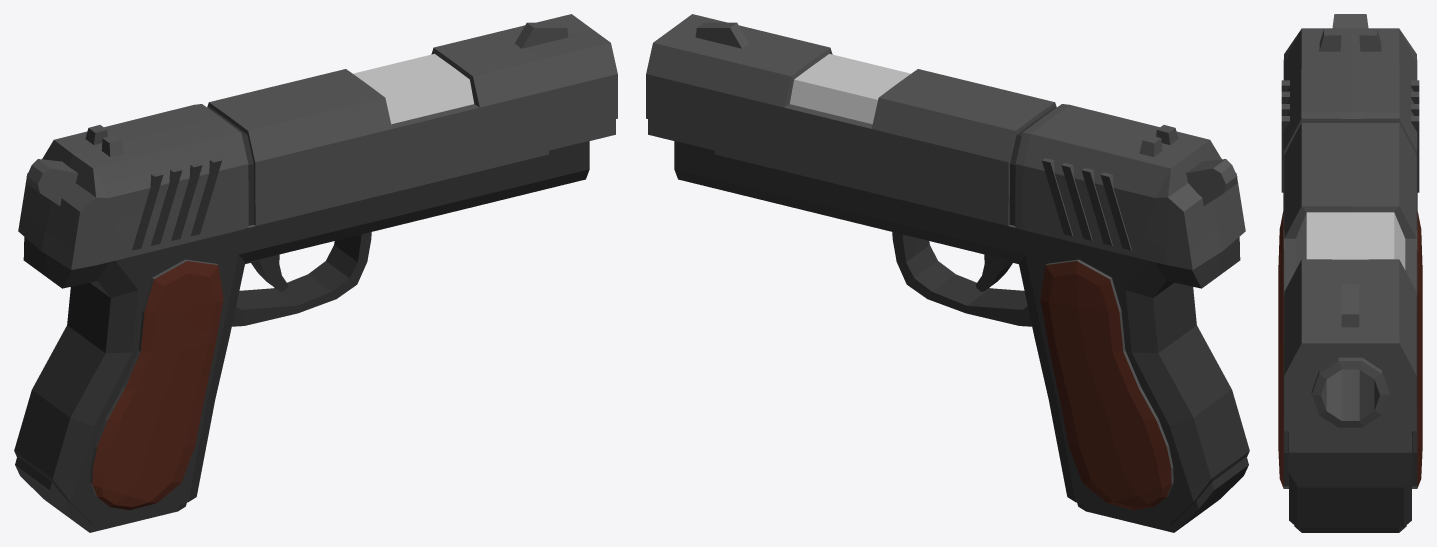
Rendered from silah.fbx.
3 views of the same model, side by side, from view 1: azimuth 30°, elevation 25°; view 2: azimuth 150°, elevation 25°; view 3: azimuth 270°, elevation 25° (orthographic). The views are drawn at different scales.
Visible parts, largest first — view 1: silah; view 2: silah; view 3: silah.
Boxes of the visible parts, box(x1,y1,x2,y2) form: silah: box(14, 14, 617, 532); silah: box(646, 14, 1249, 532); silah: box(1278, 14, 1422, 532).
Size of the model in its own units: 77.65 by 49.57 by 13.79.
